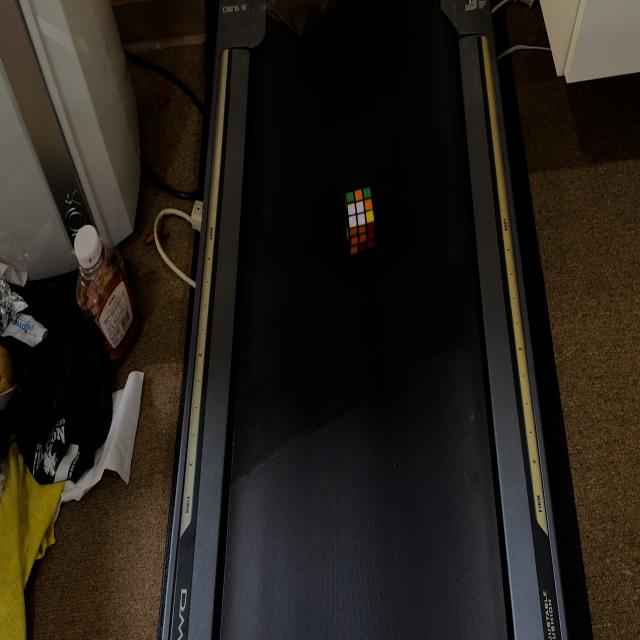Trash: (341, 174, 389, 270)
